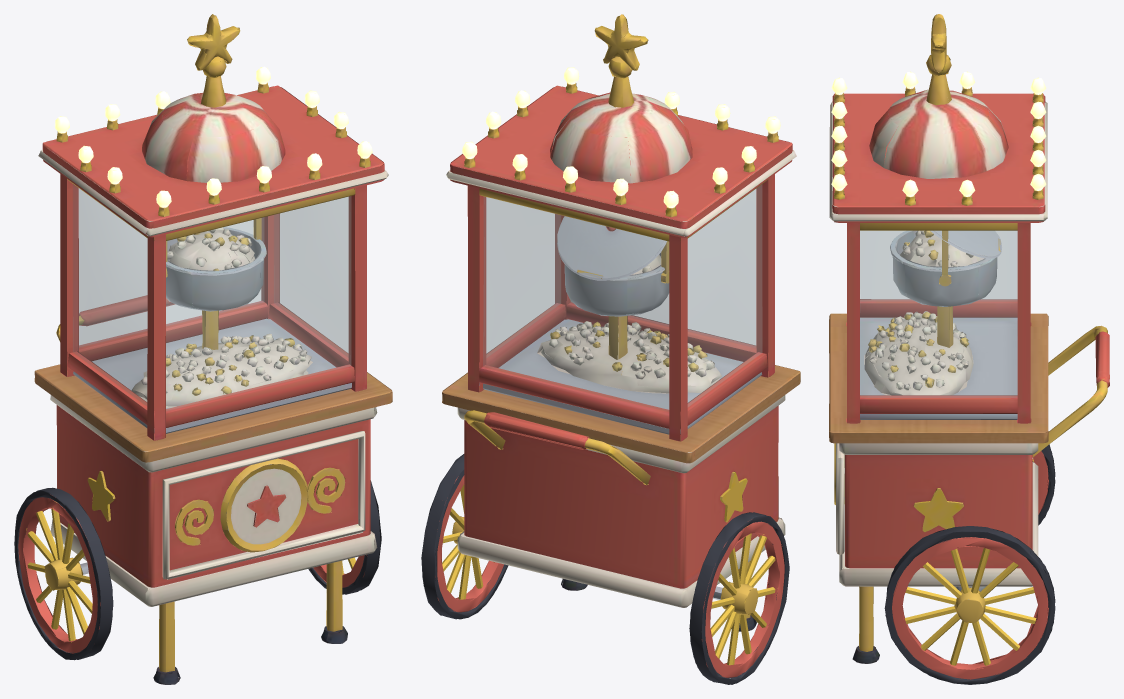
File: maquina_palomitas.glb
3 renders of one model, left to right at view 1: azimuth 30°, elevation 25°; view 2: azimuth 150°, elevation 25°; view 3: azimuth 270°, elevation 25°, orthographic. The views are drawn at different scales.
Parts seen in each view (by area): view 1: popcorn-machine_body; view 2: popcorn-machine_body; view 3: popcorn-machine_body.
Part boxes in pixels (left/top/right/bottom): popcorn-machine_body: left=14, top=14, right=392, bottom=684; popcorn-machine_body: left=421, top=14, right=800, bottom=684; popcorn-machine_body: left=829, top=14, right=1109, bottom=684.
Bounding box in the file's own units: 1.05 × 2.11 × 0.8892.
Materials: 12 (2 with a texture image).
